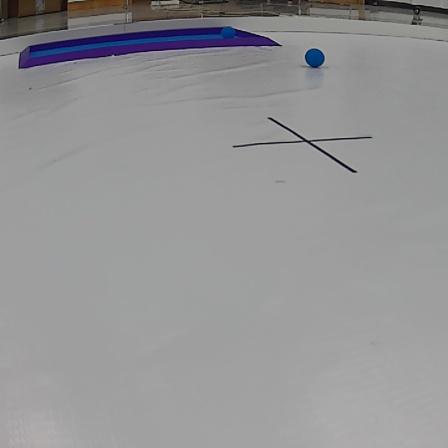blue: (300, 46, 328, 69), (221, 24, 236, 39)
blue_aim: (12, 27, 282, 67)
